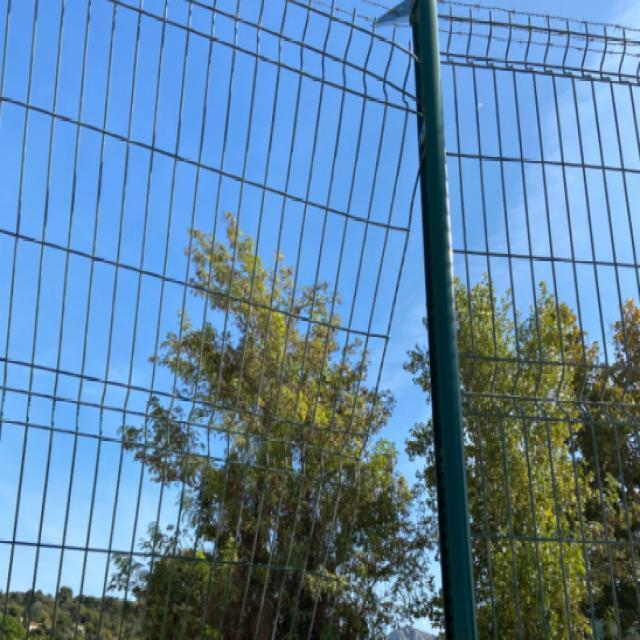fence line: (326, 160, 457, 626)
